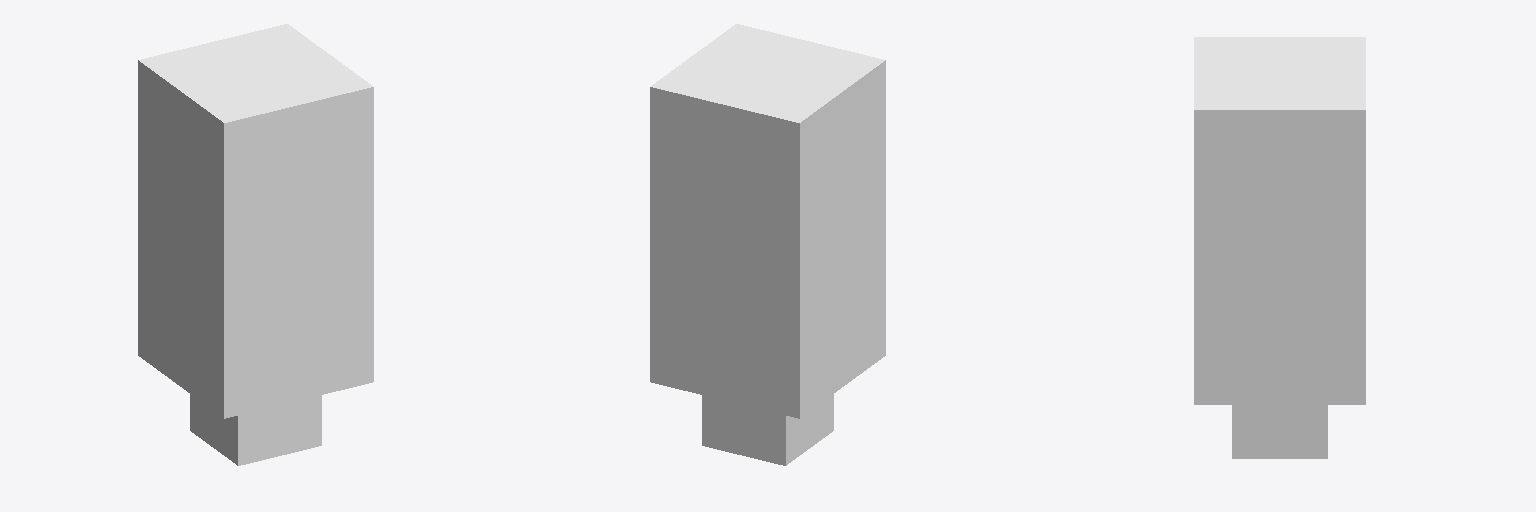
Rendered from CrossyTree04.obj.
3 views of the same model, side by side, from view 1: azimuth 30°, elevation 25°; view 2: azimuth 150°, elevation 25°; view 3: azimuth 270°, elevation 25° (orthographic).
Parts seen in each view (by area): view 1: object 1; view 2: object 1; view 3: object 1.
Boxes of the visible parts, <box> form: object 1: <box>138,24,373,465</box>; object 1: <box>650,24,885,465</box>; object 1: <box>1194,37,1365,458</box>.
Size of the model in its own units: 0.9 by 2.1 by 0.9.